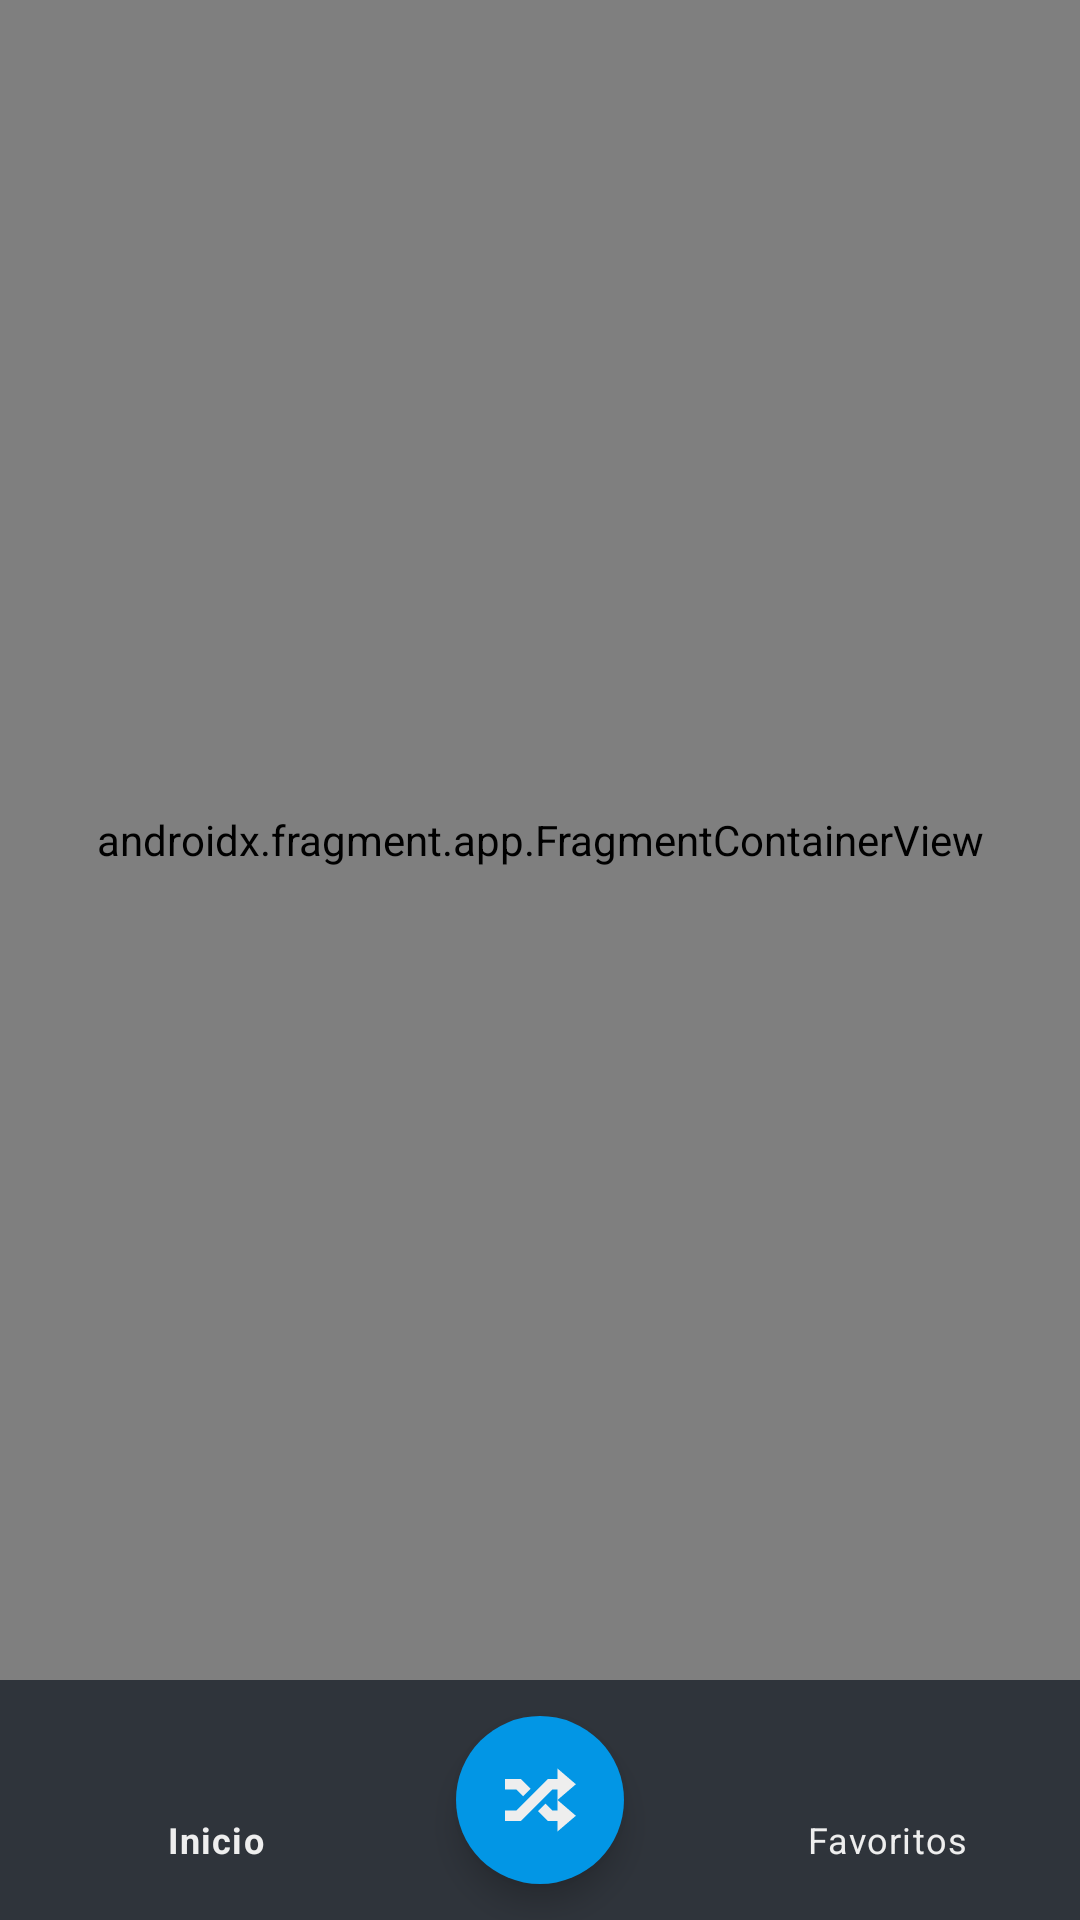

Point at icon controls on the screen. Image size 1080px×1920px, points as [x,y].
¡Sorpréndeme!: [540,1800]
